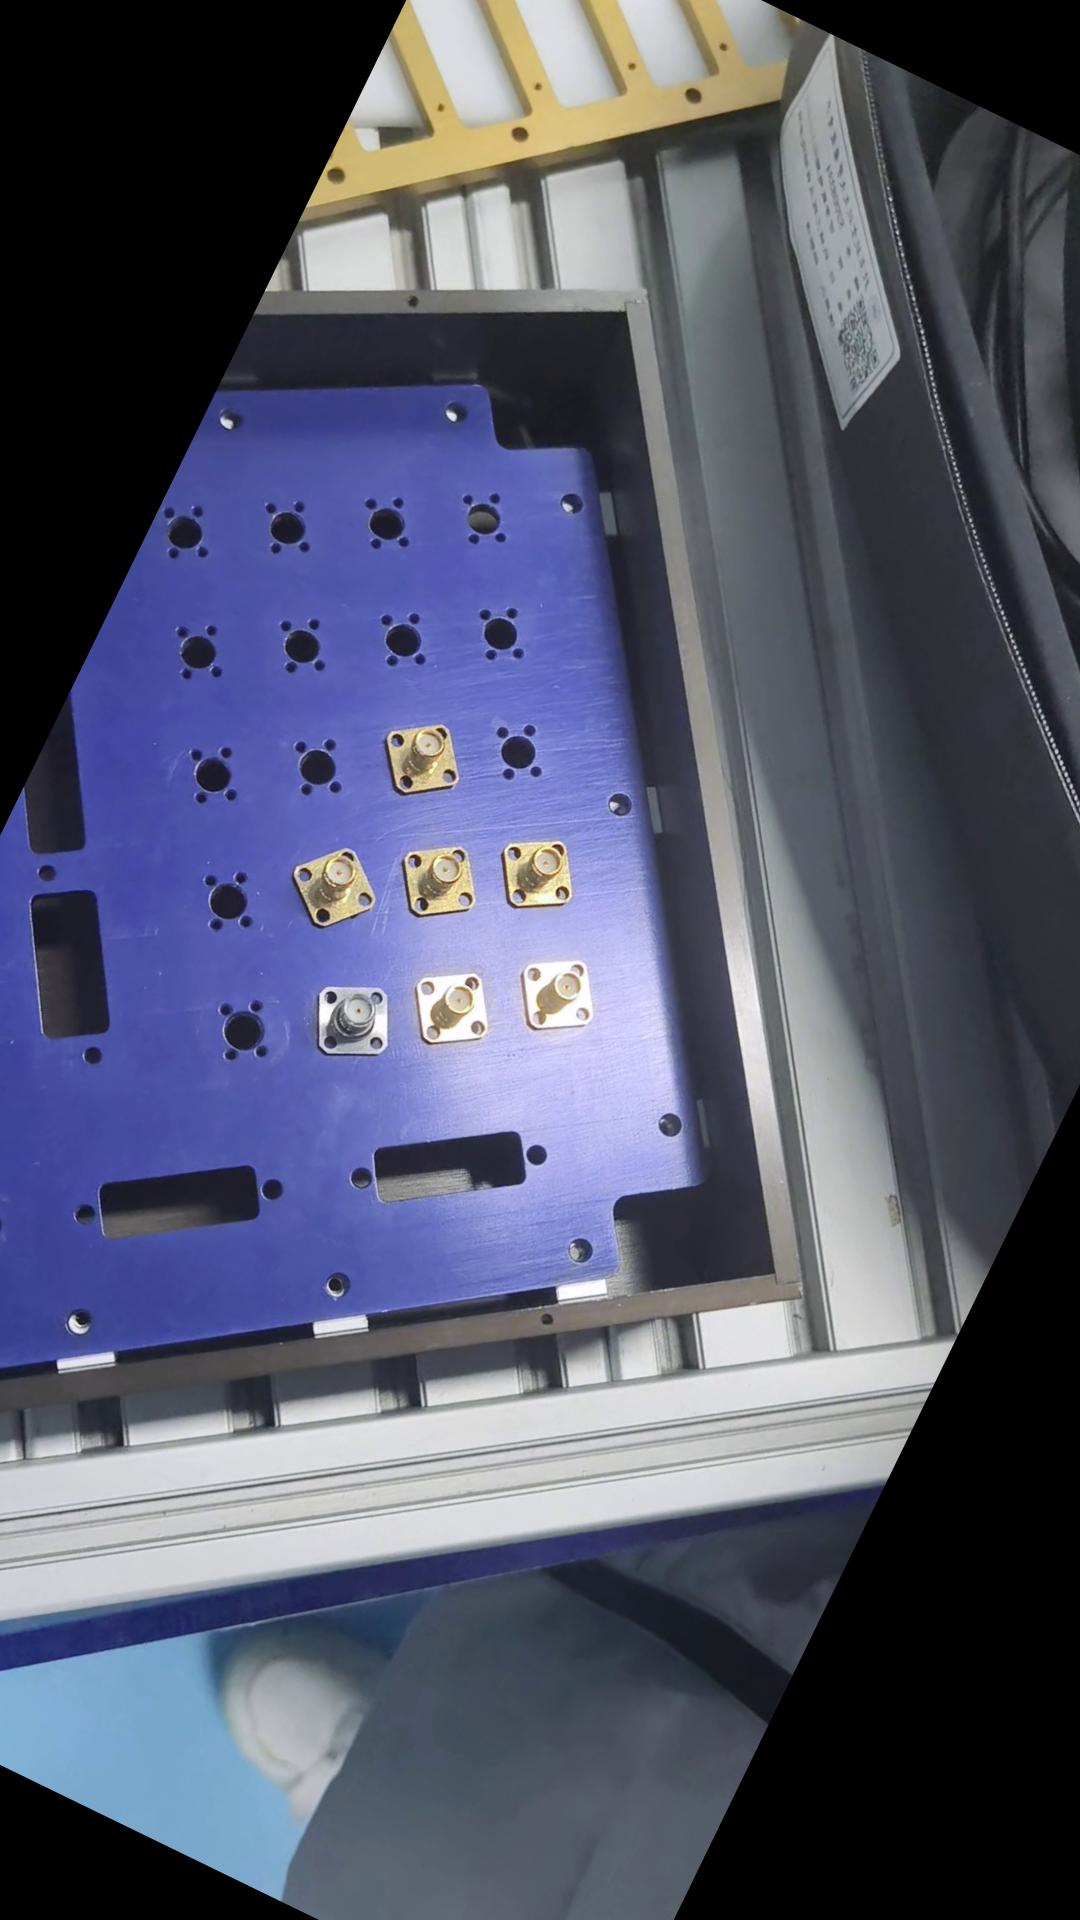SMA: (291, 960, 407, 1081), (272, 827, 386, 942), (378, 818, 491, 934), (392, 945, 501, 1060), (363, 704, 475, 814), (479, 814, 587, 924), (502, 938, 611, 1048)
